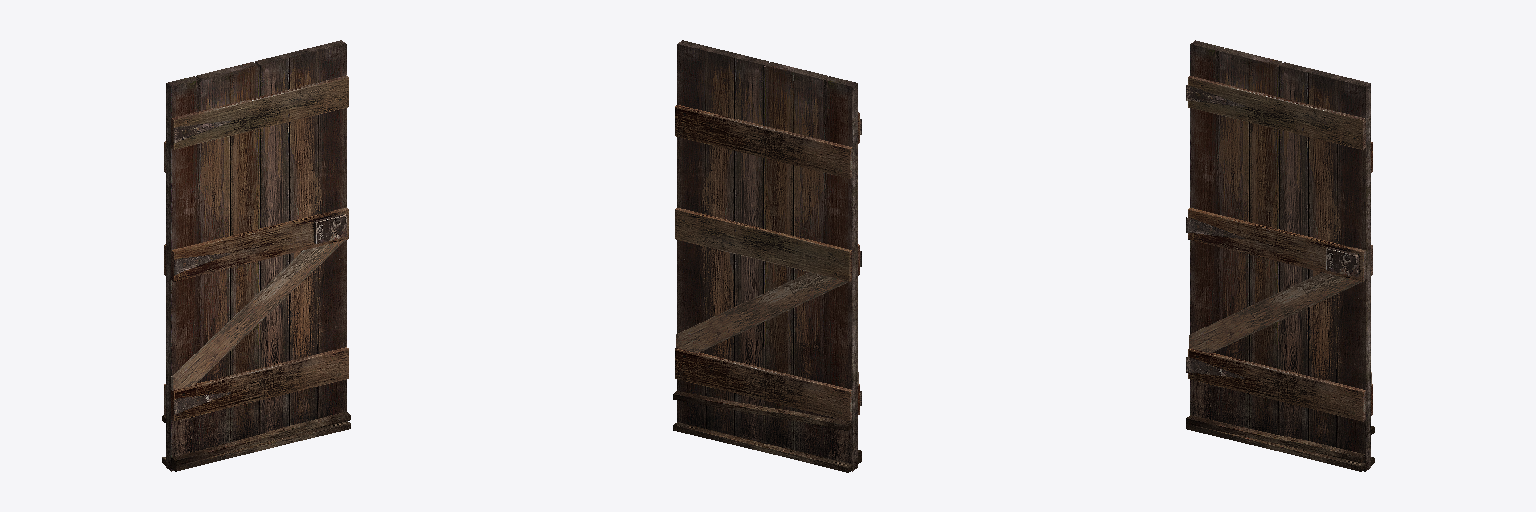
The picture shows the model from 3 angles: view 1: azimuth 30°, elevation 25°; view 2: azimuth 150°, elevation 25°; view 3: azimuth 330°, elevation 25°; orthographic projection.
Visible parts, largest first — view 1: LODGroup_1_MainMesh_1_Submesh_1; view 2: LODGroup_1_MainMesh_1_Submesh_1; view 3: LODGroup_1_MainMesh_1_Submesh_1.
Boxes of the visible parts, x1,y1,x2,y2 form: LODGroup_1_MainMesh_1_Submesh_1: [162, 40, 350, 471]; LODGroup_1_MainMesh_1_Submesh_1: [673, 40, 861, 472]; LODGroup_1_MainMesh_1_Submesh_1: [1186, 40, 1374, 471].
Size of the model in its own units: 101 by 210 by 13.87.
1 materials, 1 textured.